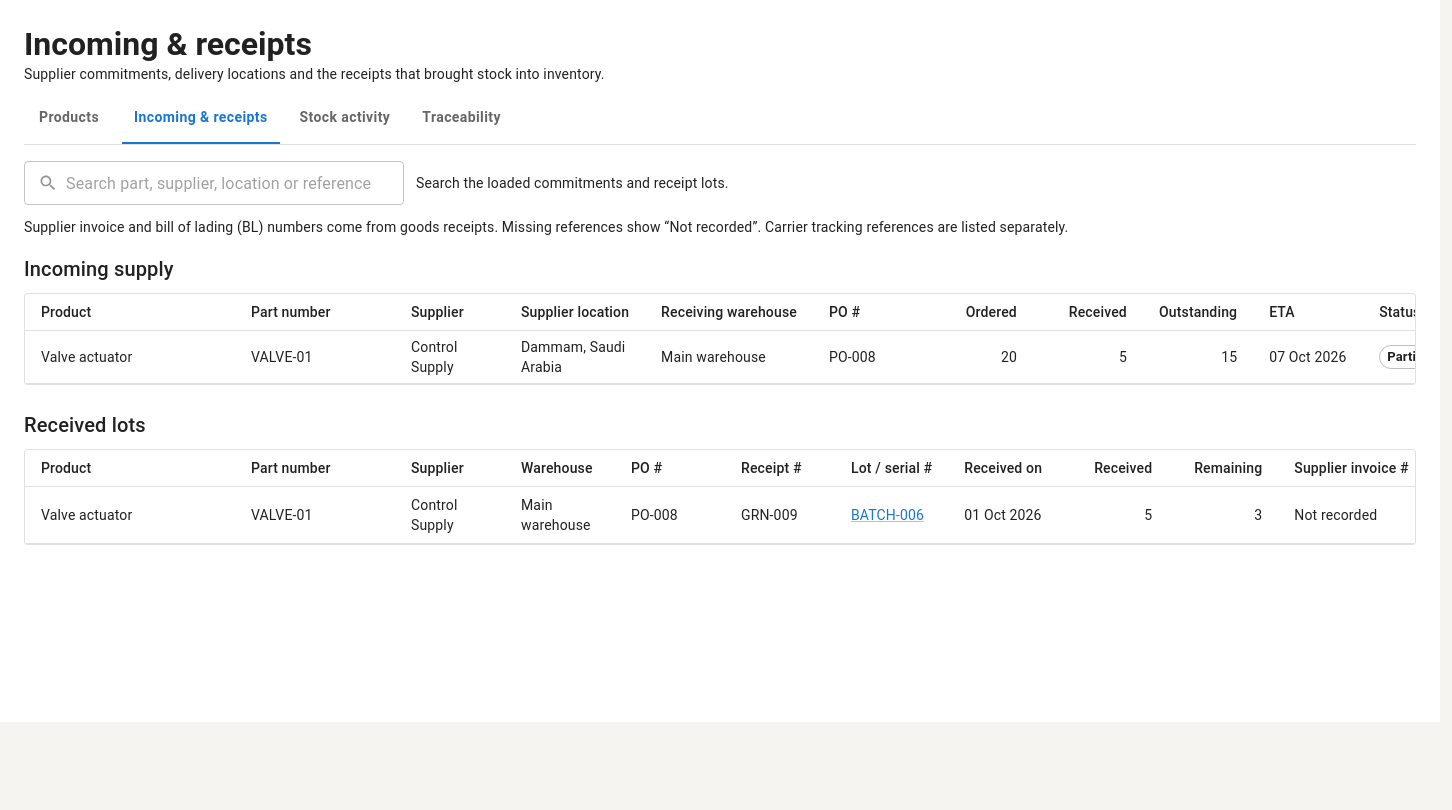
Test: Incoming & receipts › searches receipt references without losing the distinction from incoming supply
Expected: the text "GRN-009" is shown, [725, 487, 835, 544]
Type "GRN-009" into the field at (235, 183), box [66, 163, 404, 203]
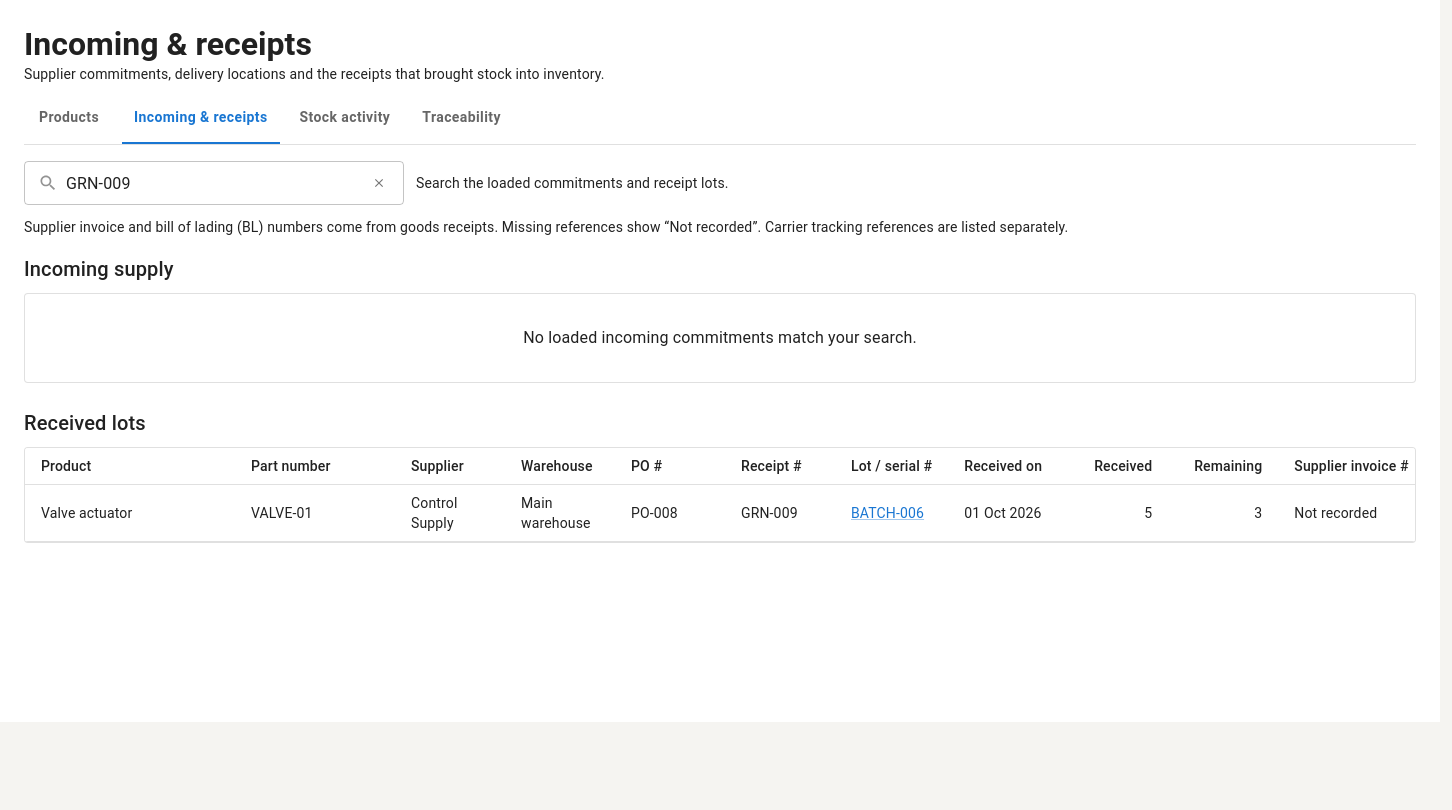
Expected: the link "BATCH-006" is shown, [851, 505, 924, 521]
Now the text "No loaded incoming commitments match your search." is shown, box [523, 328, 917, 347]
Click the button named "Clear search" at (379, 183), box [368, 172, 390, 194]
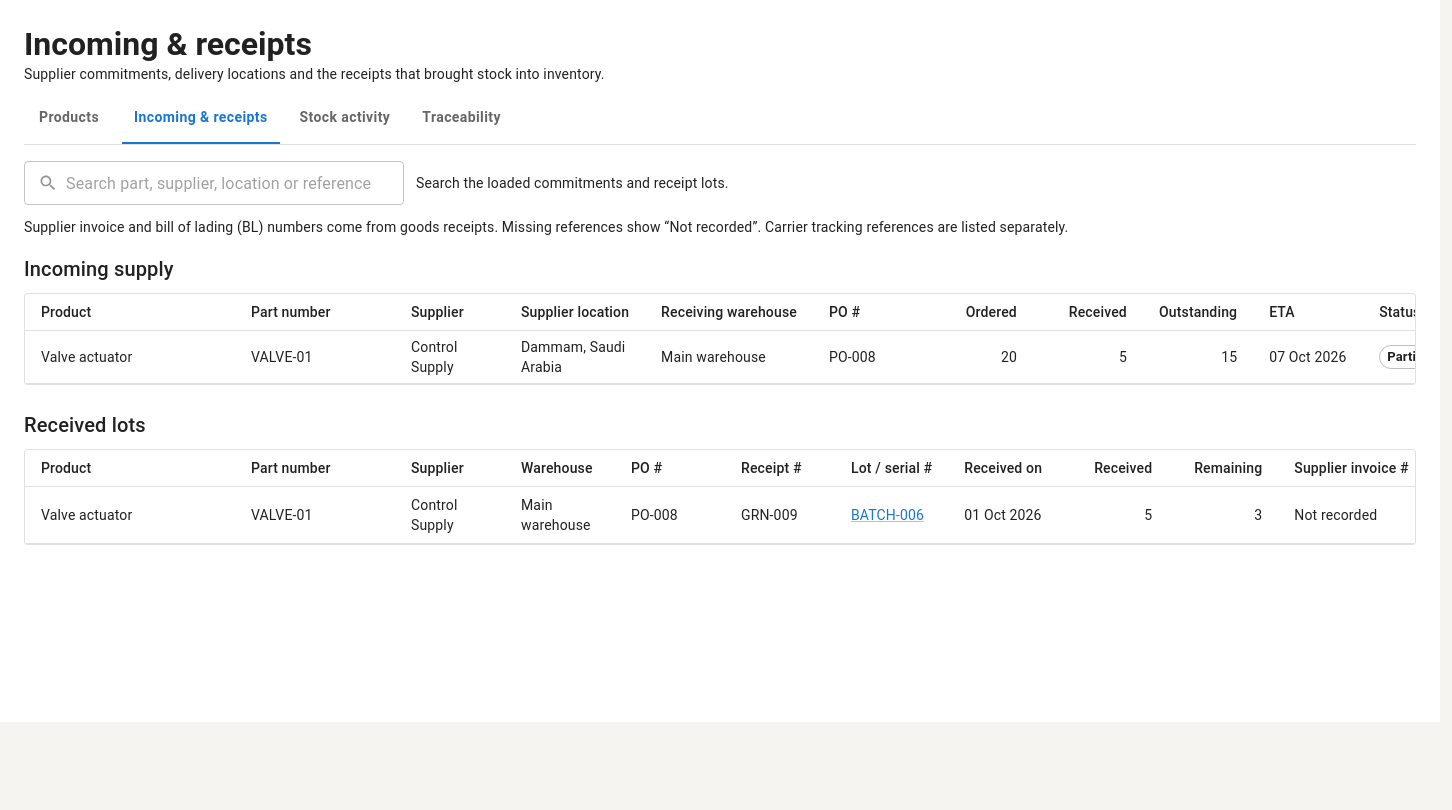
Now the element named "Incoming supply" is shown, box [24, 293, 1416, 385]
